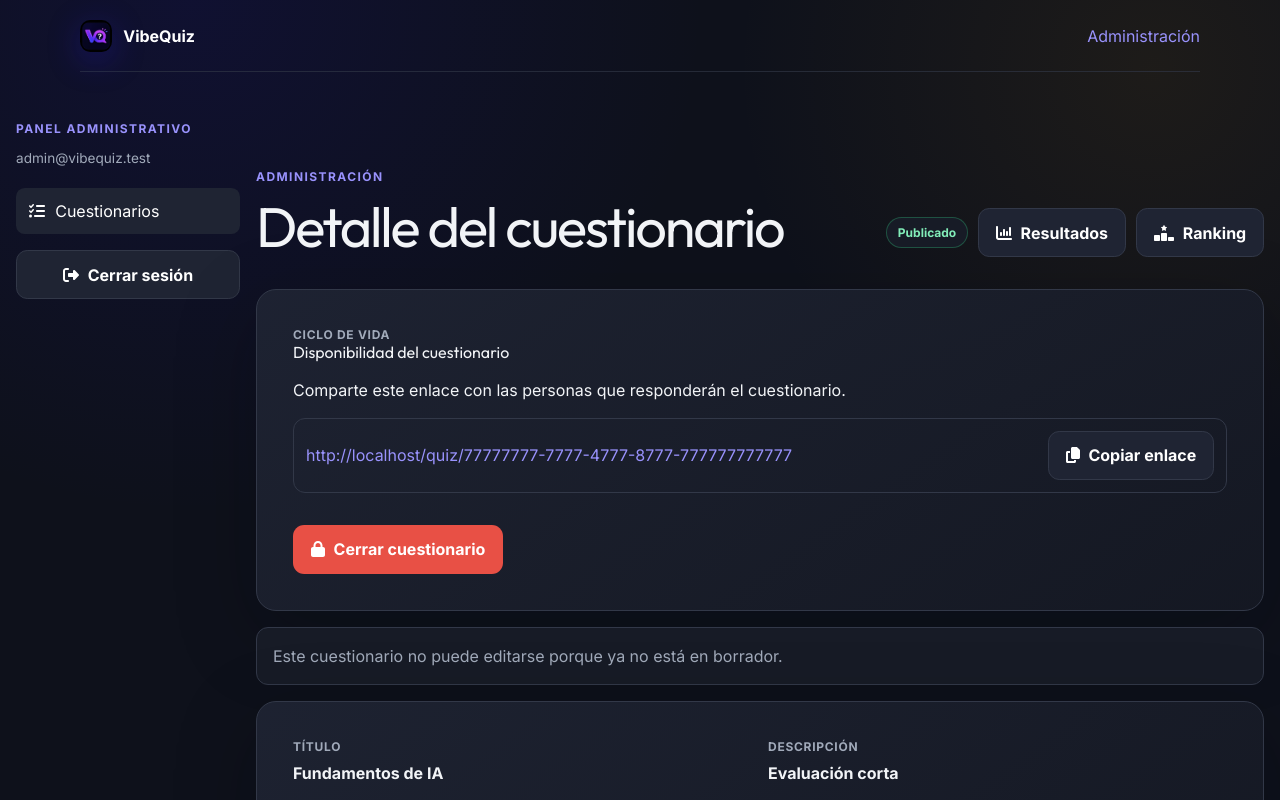
Test case: administrative quiz lifecycle › closes a published quiz and refreshes its server state
Click the button "Cerrar cuestionario" at (398, 549), box [293, 525, 503, 574]
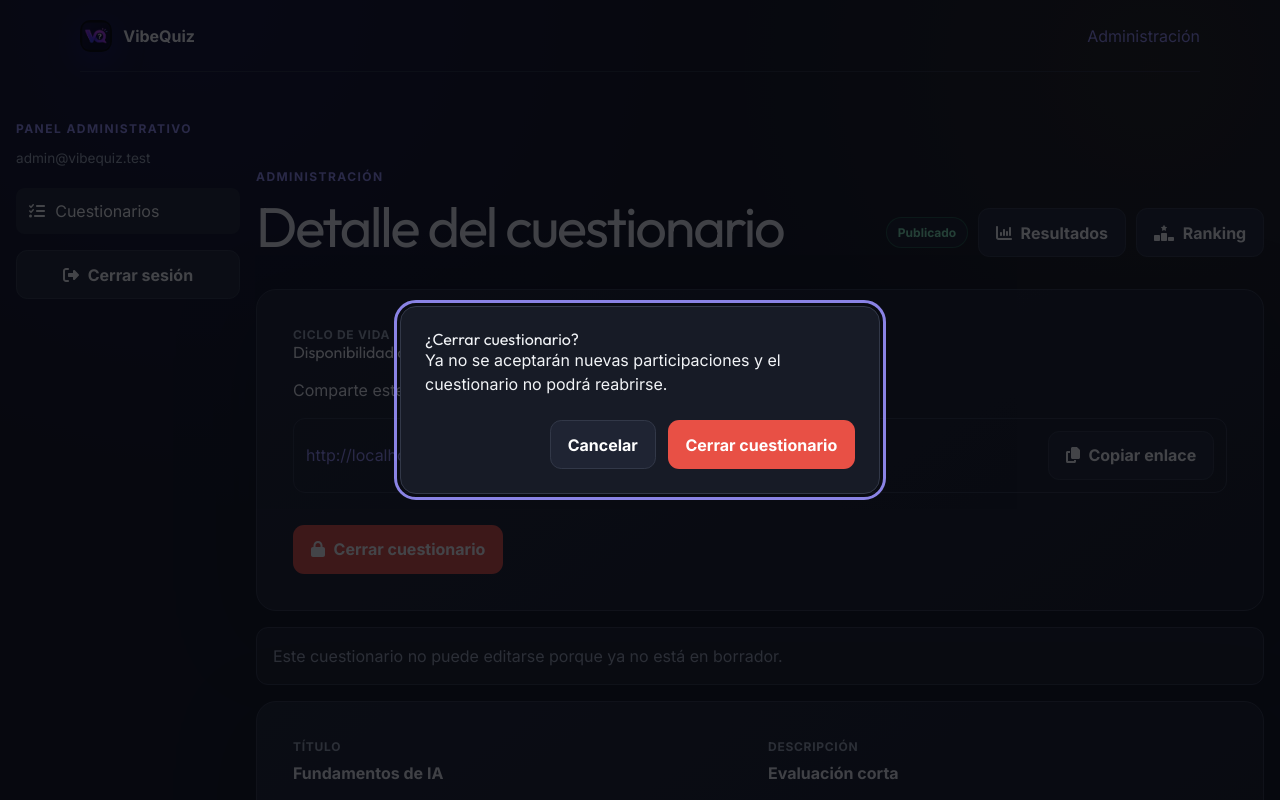
Click the button "Cerrar cuestionario" at (761, 445), box [668, 420, 855, 469]
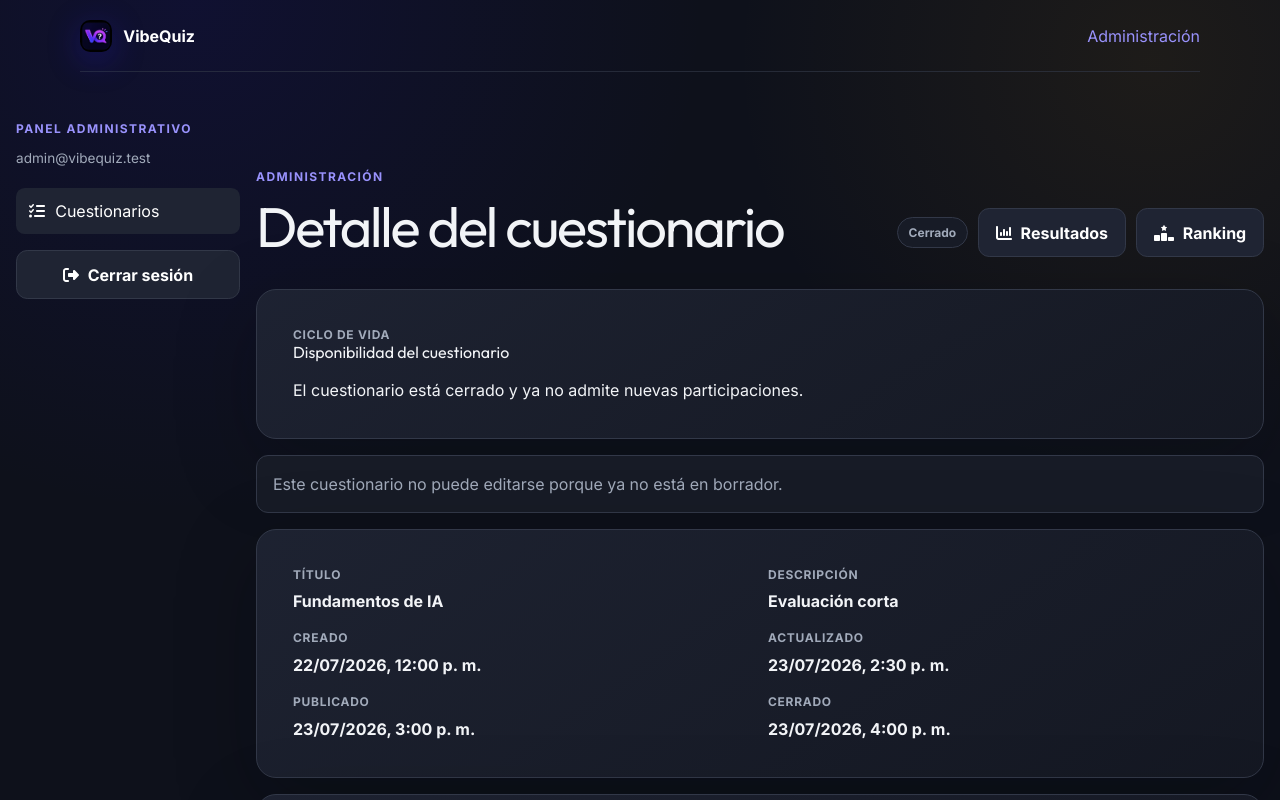
Check: the text "El cuestionario está cerrado y ya no admite nuevas participaciones." is shown, box [293, 380, 803, 400]
Check: the button "Copiar enlace" is gone
